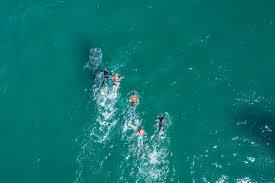swimmer: (156, 113, 166, 138), (130, 91, 137, 115), (102, 67, 109, 87), (138, 128, 145, 147), (114, 73, 120, 92)
